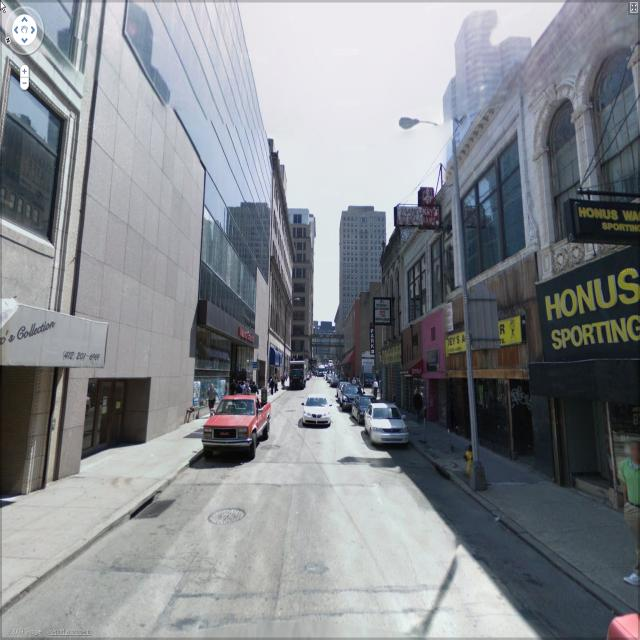b_1: (94, 1, 264, 376), (530, 4, 638, 502), (458, 107, 542, 444), (404, 191, 460, 425), (372, 232, 424, 416), (439, 9, 523, 116), (281, 207, 316, 369), (337, 196, 377, 314), (268, 182, 286, 374)
